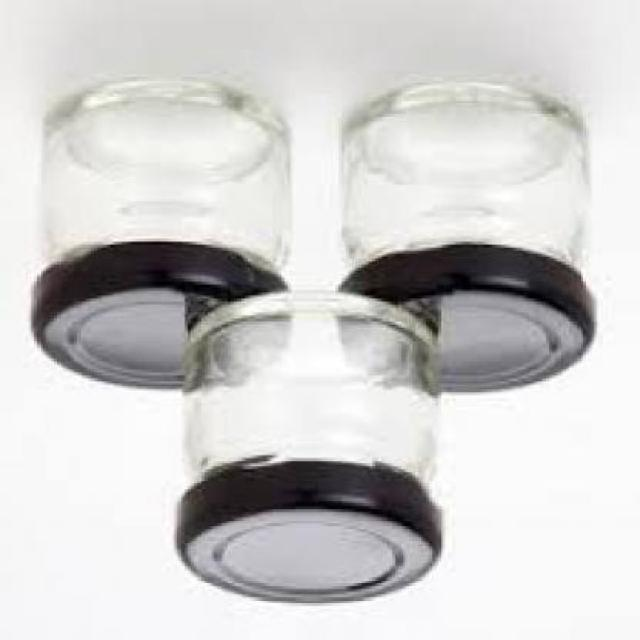GLASS: (176, 290, 441, 490), (339, 80, 592, 265), (38, 88, 287, 270)
METAL: (330, 248, 592, 402), (28, 245, 284, 392), (170, 467, 442, 605)
